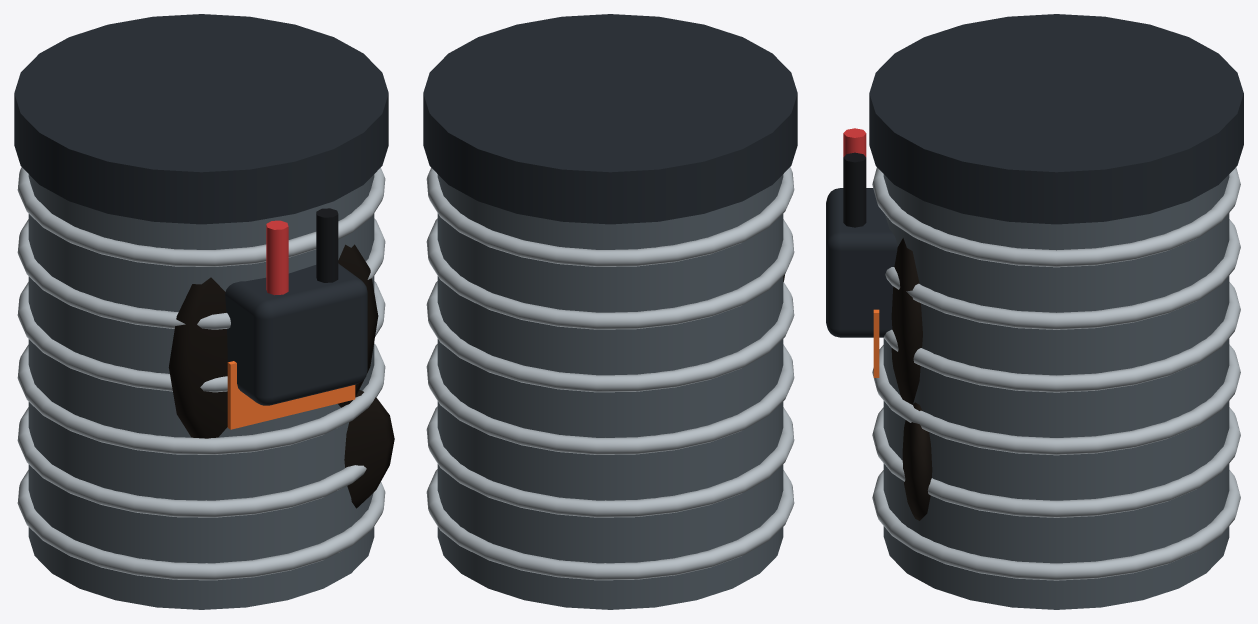
Rendered from pump-motor.glb.
3 views of the same model, side by side, from view 1: azimuth 30°, elevation 25°; view 2: azimuth 150°, elevation 25°; view 3: azimuth 270°, elevation 25° (orthographic).
Parts seen in each view (by area): view 1: pump-motor-dark-polymer, pump-motor-dark-steel, pump-motor-aluminium, scorch-scorch, tag-safety-orange, pump-motor-rubber, pump-motor-signal-red; view 2: pump-motor-dark-steel, pump-motor-dark-polymer, pump-motor-aluminium; view 3: pump-motor-dark-steel, pump-motor-dark-polymer, pump-motor-aluminium, scorch-scorch, pump-motor-rubber, pump-motor-signal-red.
Part boxes in pixels (<box>): pump-motor-dark-polymer: <box>14,14,388,405</box>; pump-motor-dark-steel: <box>28,174,374,609</box>; pump-motor-aluminium: <box>17,167,385,580</box>; scorch-scorch: <box>168,244,394,508</box>; tag-safety-orange: <box>227,361,355,429</box>; pump-motor-rubber: <box>316,208,338,282</box>; pump-motor-signal-red: <box>266,220,288,295</box>; pump-motor-dark-steel: <box>437,174,783,609</box>; pump-motor-dark-polymer: <box>423,14,797,224</box>; pump-motor-aluminium: <box>426,167,794,580</box>; pump-motor-dark-steel: <box>883,174,1229,609</box>; pump-motor-dark-polymer: <box>826,14,1243,337</box>; pump-motor-aluminium: <box>872,167,1240,580</box>; scorch-scorch: <box>891,238,932,520</box>; pump-motor-rubber: <box>843,152,866,227</box>; pump-motor-signal-red: <box>843,128,866,156</box>.
Bounding box in the file's own units: 0.26 × 0.38 × 0.29.
